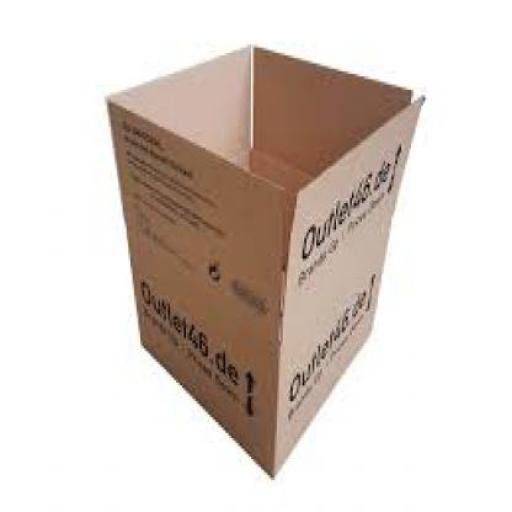cardboard: (103, 42, 421, 475)
